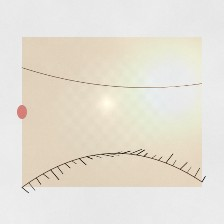corneal_ulcer: (96, 96, 135, 127)
